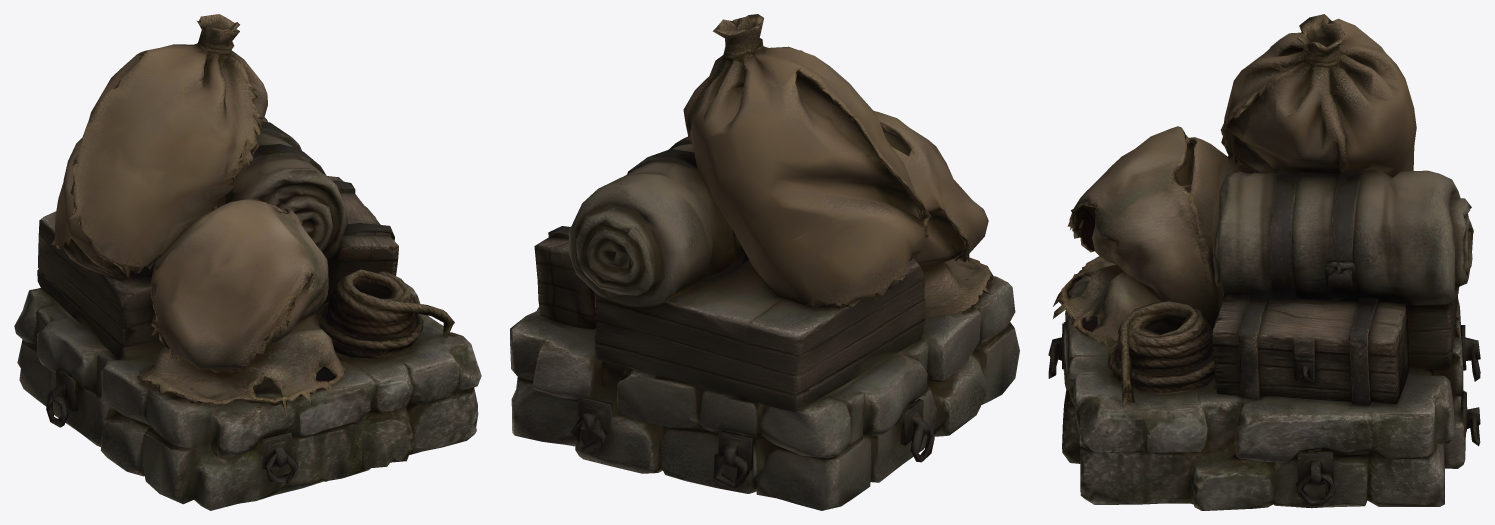
Rendered from supply-pile.glb.
3 views of the same model, side by side, from view 1: azimuth 30°, elevation 25°; view 2: azimuth 150°, elevation 25°; view 3: azimuth 270°, elevation 25° (orthographic). The views are drawn at different scales.
Parts seen in each view (by area): view 1: tripo_node_831bd81e-4f8e-4b9c-98b5-02bfd2577ea7; view 2: tripo_node_831bd81e-4f8e-4b9c-98b5-02bfd2577ea7; view 3: tripo_node_831bd81e-4f8e-4b9c-98b5-02bfd2577ea7.
Boxes of the visible parts, x1,y1,x2,y2 form: tripo_node_831bd81e-4f8e-4b9c-98b5-02bfd2577ea7: (14,14,481,510); tripo_node_831bd81e-4f8e-4b9c-98b5-02bfd2577ea7: (510,14,1019,510); tripo_node_831bd81e-4f8e-4b9c-98b5-02bfd2577ea7: (1048,14,1480,510).
Bounding box in the file's own units: 0.9571 × 1 × 0.9705.
1 material, 1 textured.
